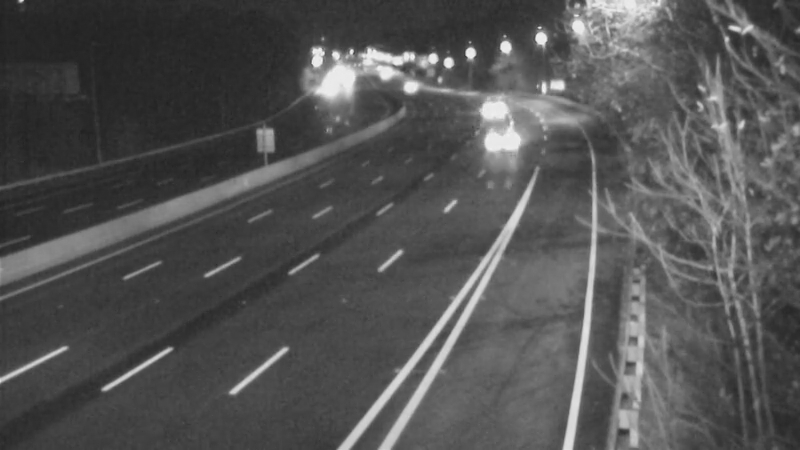vehicle: (382, 65, 432, 115), (464, 89, 514, 139), (479, 114, 529, 164)
